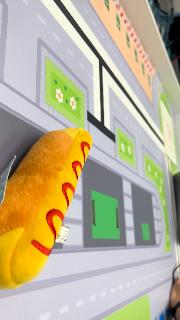hotdog: (1, 126, 93, 290)
